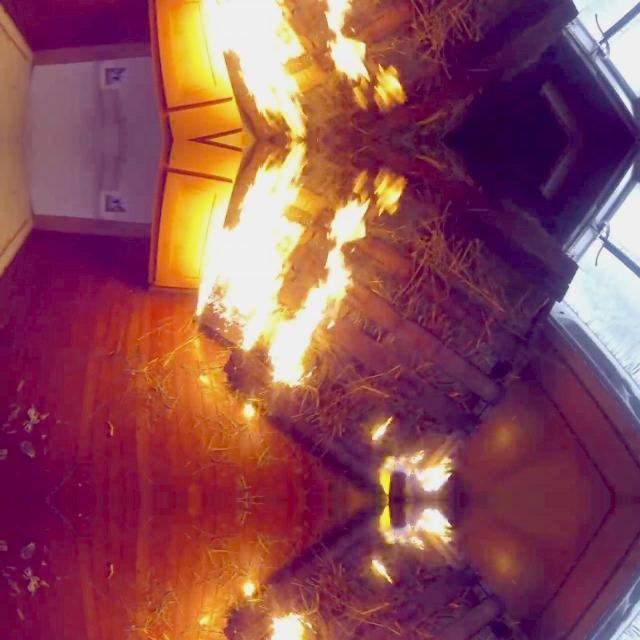fire: (173, 0, 399, 460)
